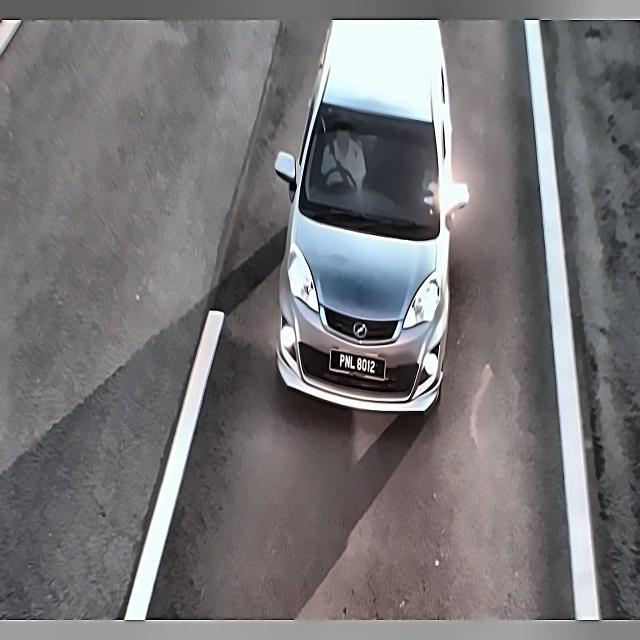car: (326, 339, 389, 387)
